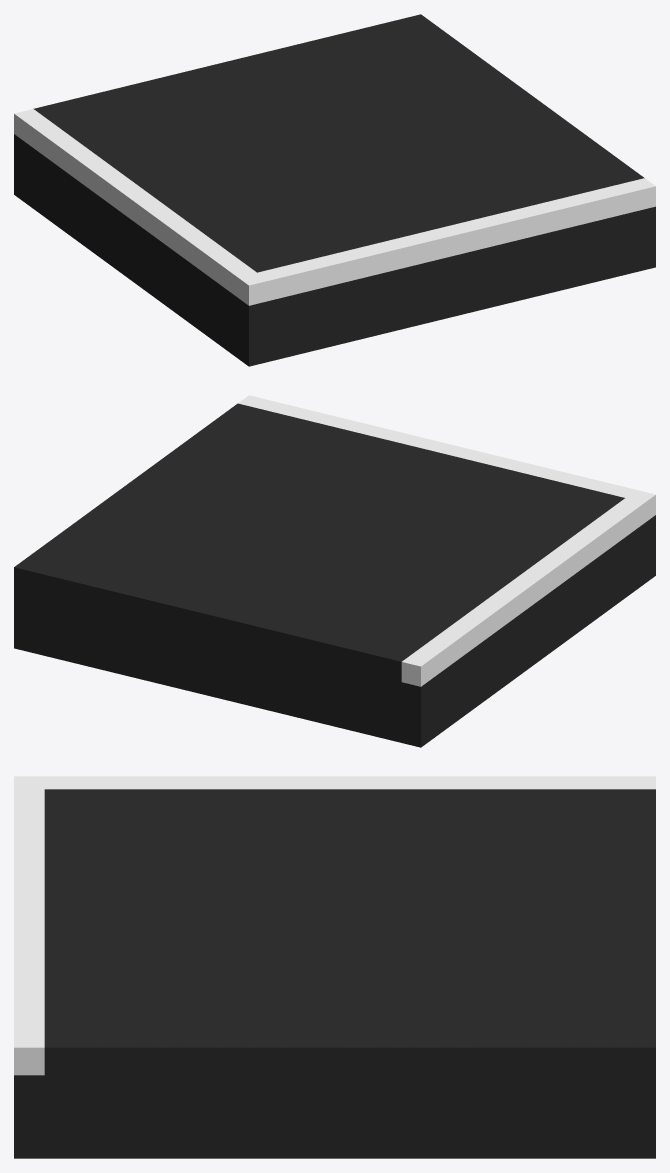
File: Exports-5.obj
The picture shows the model from 3 angles, top to bottom: view 1: azimuth 30°, elevation 25°; view 2: azimuth 150°, elevation 25°; view 3: azimuth 270°, elevation 25°; orthographic projection. The views are drawn at different scales.
Size of the model in its own units: 2.1 by 0.4 by 2.1.
1 material, 1 textured.
